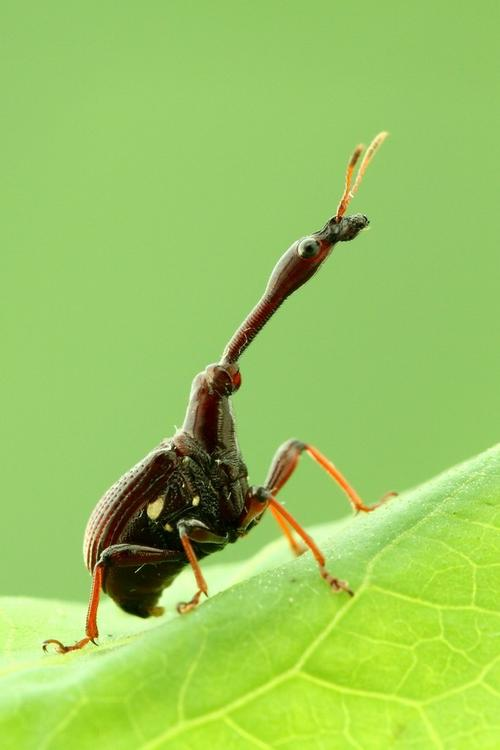Curculionidae: (41, 130, 402, 658)
